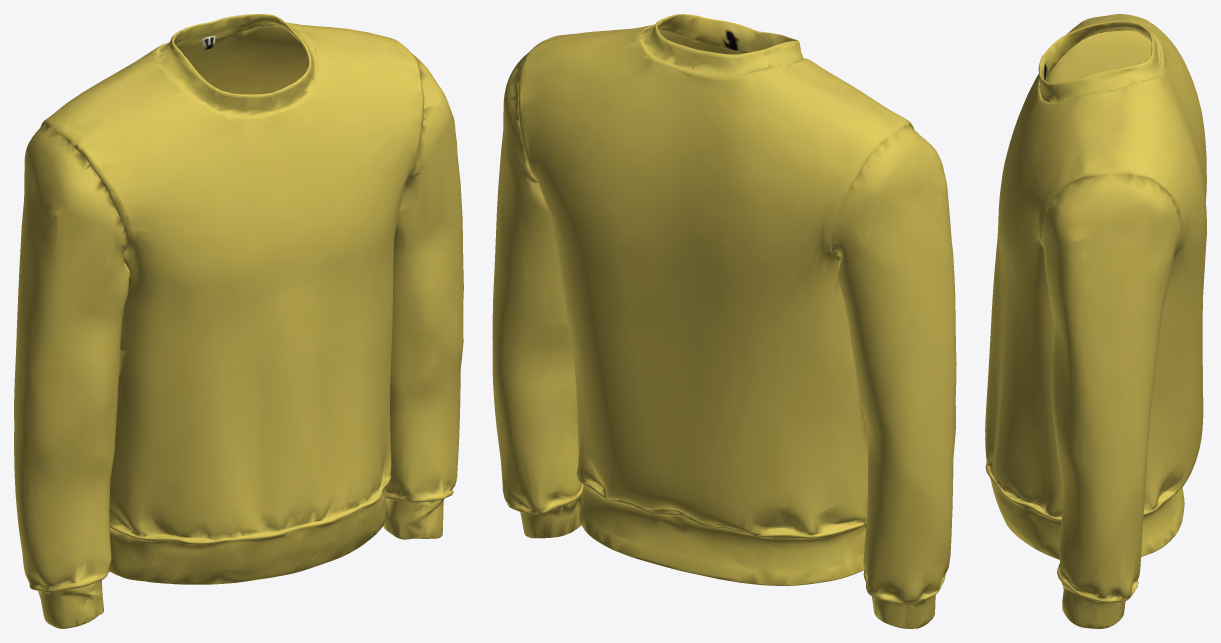
The picture shows the model from 3 angles, left to right: view 1: azimuth 30°, elevation 25°; view 2: azimuth 150°, elevation 25°; view 3: azimuth 270°, elevation 25°; orthographic projection. The views are drawn at different scales.
Visible parts, largest first — view 1: tripo_node_89307b3f-7558-4212-8ebc-3eac9fd64dc1; view 2: tripo_node_89307b3f-7558-4212-8ebc-3eac9fd64dc1; view 3: tripo_node_89307b3f-7558-4212-8ebc-3eac9fd64dc1.
Part boxes in pixels (x1,y1,x2,y2): tripo_node_89307b3f-7558-4212-8ebc-3eac9fd64dc1: (14,14,463,628); tripo_node_89307b3f-7558-4212-8ebc-3eac9fd64dc1: (492,14,956,628); tripo_node_89307b3f-7558-4212-8ebc-3eac9fd64dc1: (985,14,1206,628).
Size of the model in its own units: 0.8521 by 0.9999 by 0.4034.
1 material, 1 textured.
